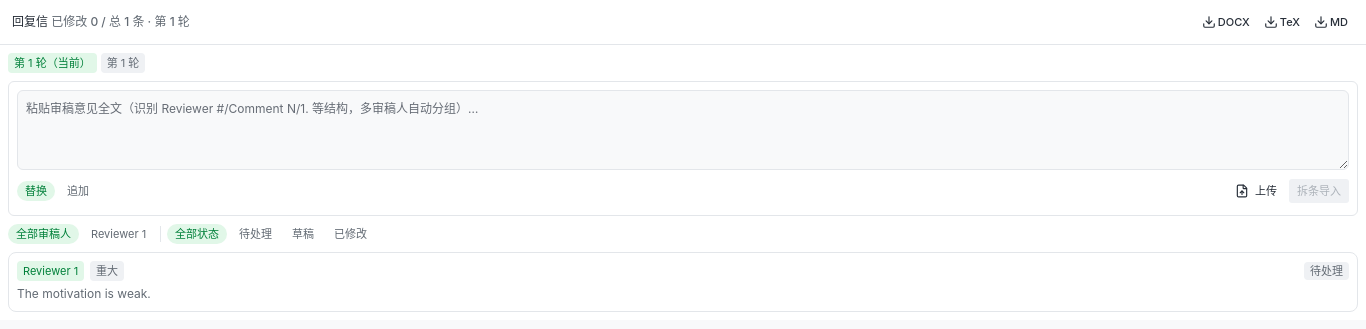
it: B3 多轮归档与 Word 模式锚点 › 历史轮切换为只读视图，返回当前轮恢复编辑
Click the button "第 1 轮" at (123, 63), box [101, 53, 145, 73]
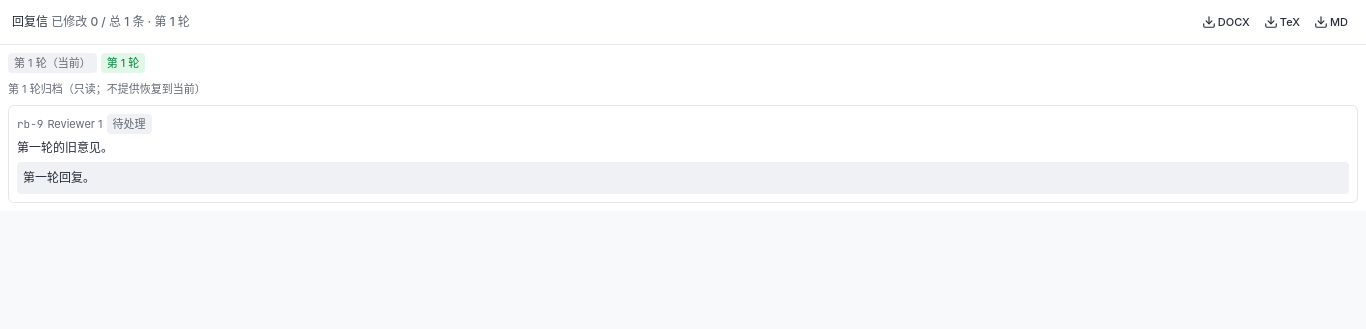
Now the element with test id "rebuttal-round-readonly" is shown, box [8, 81, 1358, 203]
Now the text "第一轮的旧意见。" is shown, box [17, 140, 113, 155]
Now the text "只读" is shown, box [27, 82, 206, 96]
Click the button "第 1 轮（当前）" at (52, 63), box [8, 53, 97, 73]
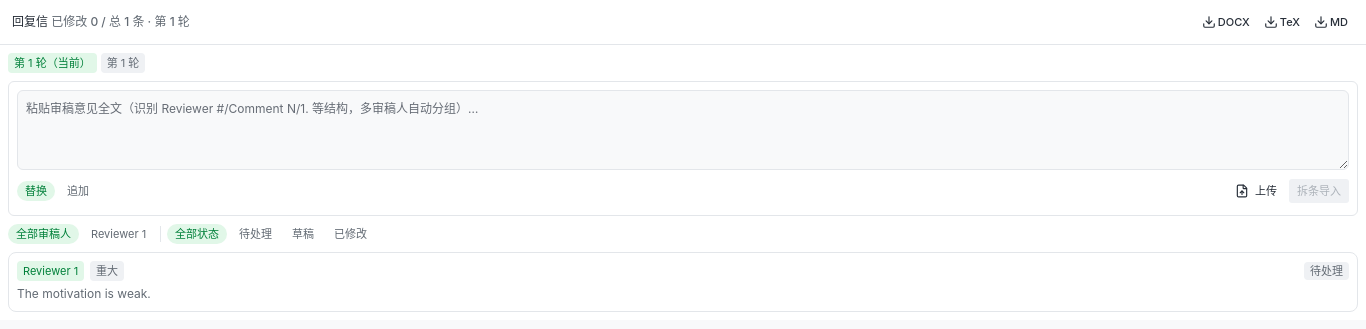
Now the element with test id "rebuttal-round-readonly" is gone
